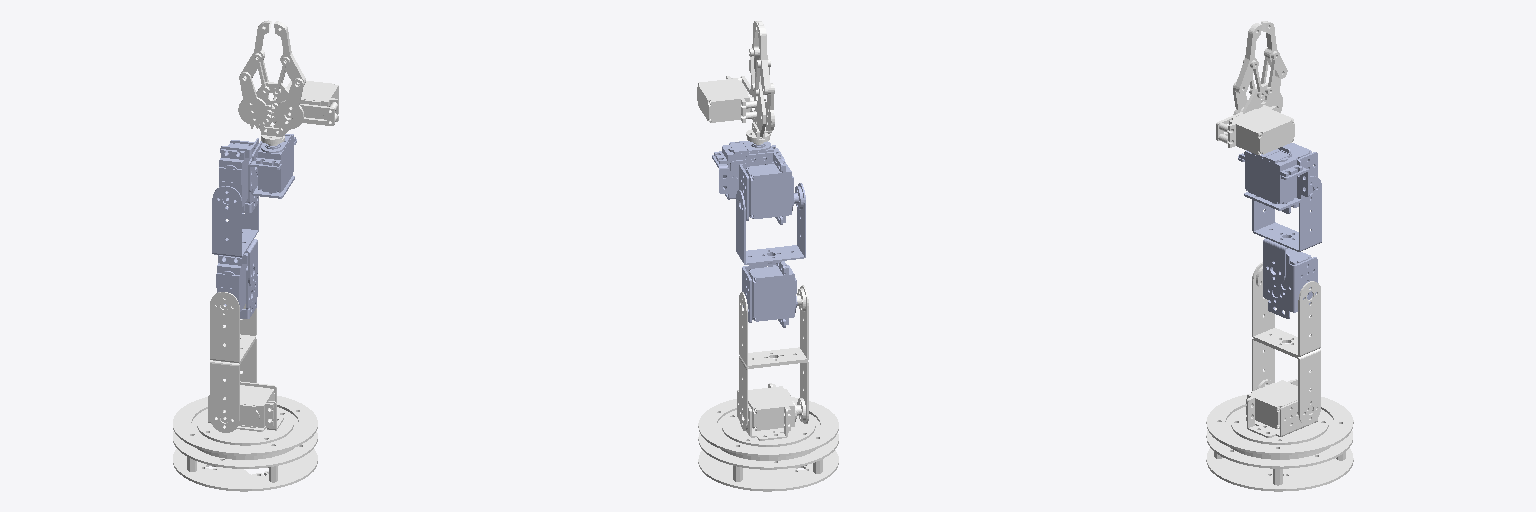
URDF robot description (robot_arm_urdf):
<robot
  name="robot_arm_urdf">
  <link
    name="base_link">
    <inertial>
      <origin
        xyz="0.010634 0.00024464 -0.00091734"
        rpy="0 1.5708 0" />
      <mass
        value="0.07165" />
      <inertia
        ixx="0.000146"
        ixy="-3.1402E-07"
        ixz="-1.6204E-08"
        iyy="8.3623E-05"
        iyz="2.8584E-08"
        izz="8.3513E-05" />
    </inertial>
    <visual>
      <origin
        xyz="0 0 0"
        rpy="0 1.5708 0" />
      <geometry>
        <mesh
          filename="package://robot_arm_urdf/meshes/base_link.STL" />
      </geometry>
      <material
        name="">
        <color
          rgba="1 1 1 1" />
      </material>
    </visual>
    <collision>
      <origin
        xyz="0 0 0"
        rpy="0 1.5708 0" />
      <geometry>
        <mesh
          filename="package://robot_arm_urdf/meshes/base_link.STL" />
      </geometry>
    </collision>
  </link>
  <link
    name="first_Link">
    <inertial>
      <origin
        xyz="-0.00018225 0.00048333 0.011102"
        rpy="0 0 0" />
      <mass
        value="0.04525" />
      <inertia
        ixx="1.2193E-05"
        ixy="-9.6123E-08"
        ixz="3.2365E-08"
        iyy="1.3031E-05"
        iyz="1.0667E-07"
        izz="1.8416E-05" />
    </inertial>
    <visual>
      <origin
        xyz="0 0 0"
        rpy="0 0 0" />
      <geometry>
        <mesh
          filename="package://robot_arm_urdf/meshes/first_Link.STL" />
      </geometry>
      <material
        name="">
        <color
          rgba="1 1 1 1" />
      </material>
    </visual>
    <collision>
      <origin
        xyz="0 0 0"
        rpy="0 0 0" />
      <geometry>
        <mesh
          filename="package://robot_arm_urdf/meshes/first_Link.STL" />
      </geometry>
    </collision>
  </link>
  <joint
    name="first_joint"
    type="revolute">
    <origin
      xyz="-0.00093742 0 0.0052186 "
      rpy="0 0 -0.7854" />
    <parent
      link="base_link" />
    <child
      link="first_Link" />
    <axis
      xyz="0 0 1" />
    <limit
      lower="-1.5708"
      upper="1.5708"
      effort="1000"
      velocity="0.5" />
  </joint>
  <link
    name="second_Link">
    <inertial>
      <origin
        xyz="0.025061 0.0515 -7.0063E-10"
        rpy="0 0 0" />
      <mass
        value="0.013966" />
      <inertia
        ixx="1.5763E-05"
        ixy="9.4632E-15"
        ixz="5.0777E-15"
        iyy="8.5858E-06"
        iyz="-1.2387E-14"
        izz="2.2967E-05" />
    </inertial>
    <visual>
      <origin
        xyz="0 0 0"
        rpy="0 0 0" />
      <geometry>
        <mesh
          filename="package://robot_arm_urdf/meshes/second_Link.STL" />
      </geometry>
      <material
        name="">
        <color
          rgba="1 1 1 1" />
      </material>
    </visual>
    <collision>
      <origin
        xyz="0 0 0"
        rpy="0 0 0" />
      <geometry>
        <mesh
          filename="package://robot_arm_urdf/meshes/second_Link.STL" />
      </geometry>
    </collision>
  </link>
  <joint
    name="second_joint"
    type="revolute">
    <origin
      xyz="-0.00975 -0.03015 0.0155"
      rpy="1.5708 -2.949E-17 1.5708" />
    <parent
      link="first_Link" />
    <child
      link="second_Link" />
    <axis
      xyz="1 0 0" />
    <limit
      lower="-1.5708"
      upper="1.5708"
      effort="1000"
      velocity="0.5" />
  </joint>
  <link
    name="third_Link">
    <inertial>
      <origin
        xyz="0.0015918 -0.019958 0.029518"
        rpy="0 0 0" />
      <mass
        value="0.044442" />
      <inertia
        ixx="3.9284E-05"
        ixy="3.2073E-07"
        ixz="-1.7752E-07"
        iyy="1.1199E-05"
        iyz="-1.7688E-06"
        izz="3.256E-05" />
    </inertial>
    <visual>
      <origin
        xyz="0 0 0"
        rpy="0 0 0" />
      <geometry>
        <mesh
          filename="package://robot_arm_urdf/meshes/third_Link.STL" />
      </geometry>
      <material
        name="">
        <color
          rgba="0.79216 0.81961 0.93333 1" />
      </material>
    </visual>
    <collision>
      <origin
        xyz="0 0 0"
        rpy="0 0 0" />
      <geometry>
        <mesh
          filename="package://robot_arm_urdf/meshes/third_Link.STL" />
      </geometry>
    </collision>
  </link>
  <joint
    name="third_joint"
    type="revolute">
    <origin
      xyz="0.00065 0.103 0"
      rpy="-1.5708 -1.5708 -1.5708" />
    <parent
      link="second_Link" />
    <child
      link="third_Link" />
    <axis
      xyz="0 0 1" />
    <limit
      lower="-1.5708"
      upper="1.5708"
      effort="1000"
      velocity="0.5" />
  </joint>
  <link
    name="fourth_Link">
    <inertial>
      <origin
        xyz="0.0155 -0.014519 0.035649"
        rpy="0 0 0" />
      <mass
        value="0.07111" />
      <inertia
        ixx="2.4593E-05"
        ixy="5.3136E-06"
        ixz="-5.1682E-06"
        iyy="3.0187E-05"
        iyz="1.7318E-06"
        izz="3.0279E-05" />
    </inertial>
    <visual>
      <origin
        xyz="0 0 0"
        rpy="0 0 0" />
      <geometry>
        <mesh
          filename="package://robot_arm_urdf/meshes/fourth_Link.STL" />
      </geometry>
      <material
        name="">
        <color
          rgba="0.79216 0.81961 0.93333 1" />
      </material>
    </visual>
    <collision>
      <origin
        xyz="0 0 0"
        rpy="0 0 0" />
      <geometry>
        <mesh
          filename="package://robot_arm_urdf/meshes/fourth_Link.STL" />
      </geometry>
    </collision>
  </link>
  <joint
    name="fourth_joint"
    type="revolute">
    <origin
      xyz="0.0015 -0.09565 0.00135"
      rpy="-6.0177E-09 9.4557E-09 0" />
    <parent
      link="third_Link" />
    <child
      link="fourth_Link" />
    <axis
      xyz="0 0 1" />
    <limit
      lower="-1.5708"
      upper="1.5708"
      effort="1000"
      velocity="0.5" />
  </joint>
  <link
    name="fifth_Link">
    <inertial>
      <origin
        xyz="0.023018 0.019039 -0.021648"
        rpy="0 0 0" />
      <mass
        value="0.037472" />
      <inertia
        ixx="1.5044E-05"
        ixy="-7.6898E-07"
        ixz="8.7565E-07"
        iyy="1.1067E-05"
        iyz="2.5288E-06"
        izz="9.1067E-06" />
    </inertial>
    <visual>
      <origin
        xyz="0 0 0"
        rpy="0 0 0" />
      <geometry>
        <mesh
          filename="package://robot_arm_urdf/meshes/fifth_Link.STL" />
      </geometry>
      <material
        name="">
        <color
          rgba="1 1 1 1" />
      </material>
    </visual>
    <collision>
      <origin
        xyz="0 0 0"
        rpy="0 0 0" />
      <geometry>
        <mesh
          filename="package://robot_arm_urdf/meshes/fifth_Link.STL" />
      </geometry>
    </collision>
  </link>
  <joint
    name="fifth_joint"
    type="revolute">
    <origin
      xyz="0.031 -0.04815 0.031"
      rpy="1.5708 6.0177E-09 -1.5708" />
    <parent
      link="fourth_Link" />
    <child
      link="fifth_Link" />
    <axis
      xyz="1 0 0" />
    <limit
      lower="-1.5708"
      upper="1.5708"
      effort="1000"
      velocity="0.5" />
  </joint>
  <link
    name="right_gripper_1">
    <inertial>
      <origin
        xyz="-0.00049833 0.0043248 -0.0011043"
        rpy="0 0 0" />
      <mass
        value="0.0029713" />
      <inertia
        ixx="3.7484E-07"
        ixy="-1.2013E-08"
        ixz="1.5059E-09"
        iyy="1.1082E-07"
        iyz="-1.3069E-08"
        izz="4.643E-07" />
    </inertial>
    <visual>
      <origin
        xyz="0 0 0"
        rpy="0 0 0" />
      <geometry>
        <mesh
          filename="package://robot_arm_urdf/meshes/right_gripper_1.STL" />
      </geometry>
      <material
        name="">
        <color
          rgba="1 1 1 1" />
      </material>
    </visual>
    <collision>
      <origin
        xyz="0 0 0"
        rpy="0 0 0" />
      <geometry>
        <mesh
          filename="package://robot_arm_urdf/meshes/right_gripper_1.STL" />
      </geometry>
    </collision>
  </link>
  <joint
    name="right_gripper1_joint"
    type="revolute">
    <origin
      xyz="0.024096 -0.0055872 -0.015569"
      rpy="-1.5708 1.3197 -3.1416" />
    <parent
      link="fifth_Link" />
    <child
      link="right_gripper_1" />
    <axis
      xyz="0 0 1" />
    <limit
      lower="-1.5708"
      upper="1.5708"
      effort="1000"
      velocity="0.5" />
  </joint>
  <link
    name="right_gripper_2">
    <inertial>
      <origin
        xyz="0.015 6.05E-10 0.00815"
        rpy="0 0 0" />
      <mass
        value="0.00070999" />
      <inertia
        ixx="1.4884E-08"
        ixy="-1.0385E-19"
        ixz="3.3192E-22"
        iyy="1.1441E-07"
        iyz="-5.7903E-23"
        izz="1.0258E-07" />
    </inertial>
    <visual>
      <origin
        xyz="0 0 0"
        rpy="0 0 0" />
      <geometry>
        <mesh
          filename="package://robot_arm_urdf/meshes/right_gripper_2.STL" />
      </geometry>
      <material
        name="">
        <color
          rgba="1 1 1 1" />
      </material>
    </visual>
    <collision>
      <origin
        xyz="0 0 0"
        rpy="0 0 0" />
      <geometry>
        <mesh
          filename="package://robot_arm_urdf/meshes/right_gripper_2.STL" />
      </geometry>
    </collision>
  </link>
  <joint
    name="right_gripper2_joint"
    type="revolute">
    <origin
      xyz="0.043492 -0.0094 -0.005"
      rpy="-1.5708 0.2515 2.3821E-16" />
    <parent
      link="fifth_Link" />
    <child
      link="right_gripper_2" />
    <axis
      xyz="0 0 1" />
    <limit
      lower="0"
      upper="1.5708"
      effort="1000"
      velocity="0.5" />
    <mimic joint="right_gripper1_joint" multiplier="-1" offset="0" />
  </joint>
  <link
    name="right_gripper_3">
    <inertial>
      <origin
        xyz="0.022399 -0.0028626 -0.0078155"
        rpy="0 0 0" />
      <mass
        value="0.002504" />
      <inertia
        ixx="5.2089E-08"
        ixy="1.2602E-07"
        ixz="5.1015E-18"
        iyy="6.8103E-07"
        iyz="2.4021E-18"
        izz="7.2049E-07" />
    </inertial>
    <visual>
      <origin
        xyz="0 0 0"
        rpy="0 0 0" />
      <geometry>
        <mesh
          filename="package://robot_arm_urdf/meshes/right_gripper_3.STL" />
      </geometry>
      <material
        name="">
        <color
          rgba="1 1 1 1" />
      </material>
    </visual>
    <collision>
      <origin
        xyz="0 0 0"
        rpy="0 0 0" />
      <geometry>
        <mesh
          filename="package://robot_arm_urdf/meshes/right_gripper_3.STL" />
      </geometry>
    </collision>
  </link>
  <joint
    name="right_gripper3_joint"
    type="revolute">
    <origin
      xyz="0 0.03 0.0038128"
      rpy="2.9072E-13 -1.6376E-13 2.3204" />
    <parent
      link="right_gripper_1" />
    <child
      link="right_gripper_3" />
    <axis
      xyz="0 0 1" />
    <limit
      lower="-1.5708"
      upper="0"
      effort="1000"
      velocity="0.5" />
    <mimic joint="right_gripper1_joint" multiplier="-1" offset="0" />
  </joint>
  <link
    name="left_gripper_1">
    <inertial>
      <origin
        xyz="0.0046135 -0.0033863 0.0039"
        rpy="0 0 0" />
      <mass
        value="0.0022067" />
      <inertia
        ixx="2.0262E-07"
        ixy="1.2693E-07"
        ixz="-1.7042E-15"
        iyy="2.0958E-07"
        iyz="6.9435E-15"
        izz="4.0889E-07" />
    </inertial>
    <visual>
      <origin
        xyz="0 0 0"
        rpy="0 0 0" />
      <geometry>
        <mesh
          filename="package://robot_arm_urdf/meshes/left_gripper_1.STL" />
      </geometry>
      <material
        name="">
        <color
          rgba="1 1 1 1" />
      </material>
    </visual>
    <collision>
      <origin
        xyz="0 0 0"
        rpy="0 0 0" />
      <geometry>
        <mesh
          filename="package://robot_arm_urdf/meshes/left_gripper_1.STL" />
      </geometry>
    </collision>
  </link>
  <joint
    name="left_gripper1_joint"
    type="revolute">
    <origin
      xyz="0.024096 -0.0094 0.015166"
      rpy="-1.5708 0.49223 1.7369E-13" />
    <parent
      link="fifth_Link" />
    <child
      link="left_gripper_1" />
    <axis
      xyz="0 0 1" />
    <limit
      lower="-1.5708"
      upper="0"
      effort="1000"
      velocity="0.5" />
    <mimic joint="right_gripper1_joint" multiplier="1" offset="0" />
  </joint>
  <link
    name="left_gripper_2">
    <inertial>
      <origin
        xyz="0.015 5.4209E-09 0.00815"
        rpy="0 0 0" />
      <mass
        value="0.00070999" />
      <inertia
        ixx="1.4884E-08"
        ixy="-1.0394E-19"
        ixz="1.8531E-22"
        iyy="1.1441E-07"
        iyz="2.4518E-21"
        izz="1.0258E-07" />
    </inertial>
    <visual>
      <origin
        xyz="0 0 0"
        rpy="0 0 0" />
      <geometry>
        <mesh
          filename="package://robot_arm_urdf/meshes/left_gripper_2.STL" />
      </geometry>
      <material
        name="">
        <color
          rgba="1 1 1 1" />
      </material>
    </visual>
    <collision>
      <origin
        xyz="0 0 0"
        rpy="0 0 0" />
      <geometry>
        <mesh
          filename="package://robot_arm_urdf/meshes/left_gripper_2.STL" />
      </geometry>
    </collision>
  </link>
  <joint
    name="left_gripper2_joint"
    type="revolute">
    <origin
      xyz="0.043492 -0.0094 0.005"
      rpy="-1.5708 -0.22424 -5.0887E-16" />
    <parent
      link="fifth_Link" />
    <child
      link="left_gripper_2" />
    <axis
      xyz="0 0 1" />
    <limit
      lower="-1.5708"
      upper="0"
      effort="1000"
      velocity="0.5" />
    <mimic joint="right_gripper1_joint" multiplier="1" offset="0" />
  </joint>
  <link
    name="left_gripper_3">
    <inertial>
      <origin
        xyz="0.021961 -0.0025409 0.00815"
        rpy="0 0 0" />
      <mass
        value="0.002504" />
      <inertia
        ixx="5.2089E-08"
        ixy="1.2602E-07"
        ixz="4.9778E-18"
        iyy="6.8103E-07"
        iyz="2.4444E-18"
        izz="7.2049E-07" />
    </inertial>
    <visual>
      <origin
        xyz="0 0 0"
        rpy="0 0 0" />
      <geometry>
        <mesh
          filename="package://robot_arm_urdf/meshes/left_gripper_3.STL" />
      </geometry>
      <material
        name="">
        <color
          rgba="1 1 1 1" />
      </material>
    </visual>
    <collision>
      <origin
        xyz="0 0 0"
        rpy="0 0 0" />
      <geometry>
        <mesh
          filename="package://robot_arm_urdf/meshes/left_gripper_3.STL" />
      </geometry>
    </collision>
  </link>
  <joint
    name="left_gripper3_joint"
    type="revolute">
    <origin
      xyz="0.022441 -0.019909 0"
      rpy="1.3878E-17 0 0" />
    <parent
      link="left_gripper_1" />
    <child
      link="left_gripper_3" />
    <axis
      xyz="0 0 1" />
    <limit
      lower="-1.5708"
      upper="0"
      effort="1000"
      velocity="0.5" />
    <mimic joint="right_gripper1_joint" multiplier="-1" offset="0" />
  </joint>
</robot>

--- What the picture shows (computed from the rendered views, not written in the file) ---
3 views of the same robot in one strip: view 1: azimuth 30°, elevation 25°; view 2: azimuth 150°, elevation 25°; view 3: azimuth 270°, elevation 25° (orthographic).
Model robot_arm_urdf with 12 links and 11 joints (11 revolute), rooted at base_link, posed every joint at zero.
Visible links, largest first — view 1: base_link, second_Link, third_Link, fourth_Link, first_Link, fifth_Link, left_gripper_1, right_gripper_1, right_gripper_3, left_gripper_3; view 2: base_link, third_Link, fourth_Link, first_Link, second_Link, fifth_Link, left_gripper_3; view 3: base_link, second_Link, third_Link, first_Link, fourth_Link, fifth_Link, right_gripper_3, left_gripper_3.
Boxes of the visible links, x1,y1,x2,y2 form: base_link: [173, 396, 317, 491]; second_Link: [210, 292, 256, 432]; third_Link: [212, 186, 258, 318]; fourth_Link: [219, 134, 296, 212]; first_Link: [197, 381, 293, 445]; fifth_Link: [250, 81, 338, 145]; left_gripper_1: [238, 72, 271, 128]; right_gripper_1: [270, 78, 303, 131]; right_gripper_3: [274, 21, 305, 85]; left_gripper_3: [241, 20, 271, 78]; base_link: [698, 397, 838, 491]; third_Link: [736, 183, 805, 327]; fourth_Link: [712, 141, 794, 224]; first_Link: [722, 383, 815, 446]; second_Link: [739, 285, 808, 430]; fifth_Link: [697, 76, 770, 144]; left_gripper_3: [757, 24, 770, 94]; base_link: [1206, 394, 1353, 491]; second_Link: [1252, 262, 1320, 424]; third_Link: [1252, 176, 1321, 318]; first_Link: [1231, 379, 1328, 444]; fourth_Link: [1238, 143, 1317, 213]; fifth_Link: [1216, 82, 1294, 154]; right_gripper_3: [1235, 23, 1261, 94]; left_gripper_3: [1261, 21, 1287, 78].
Size in the robot's own frame: 0.1402 by 0.12 by 0.4016 metres.
Meshes: 12 distinct files referenced, 12 mesh visuals loaded (12 binary STL).